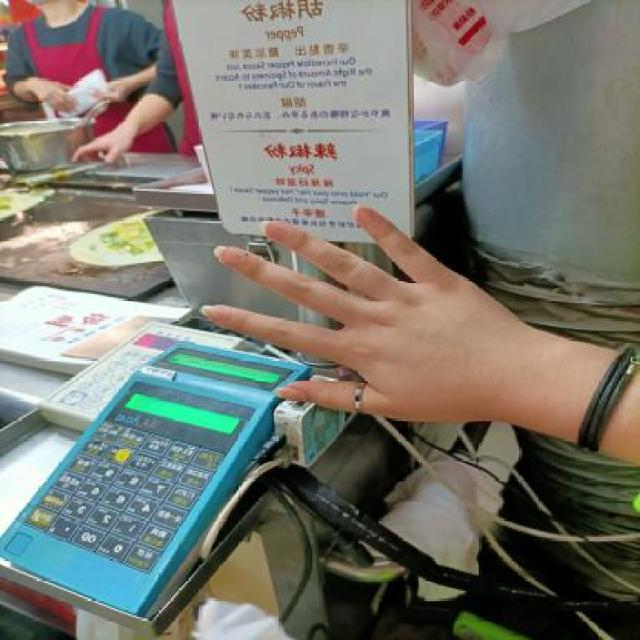bare_hand: (182, 196, 556, 439)
